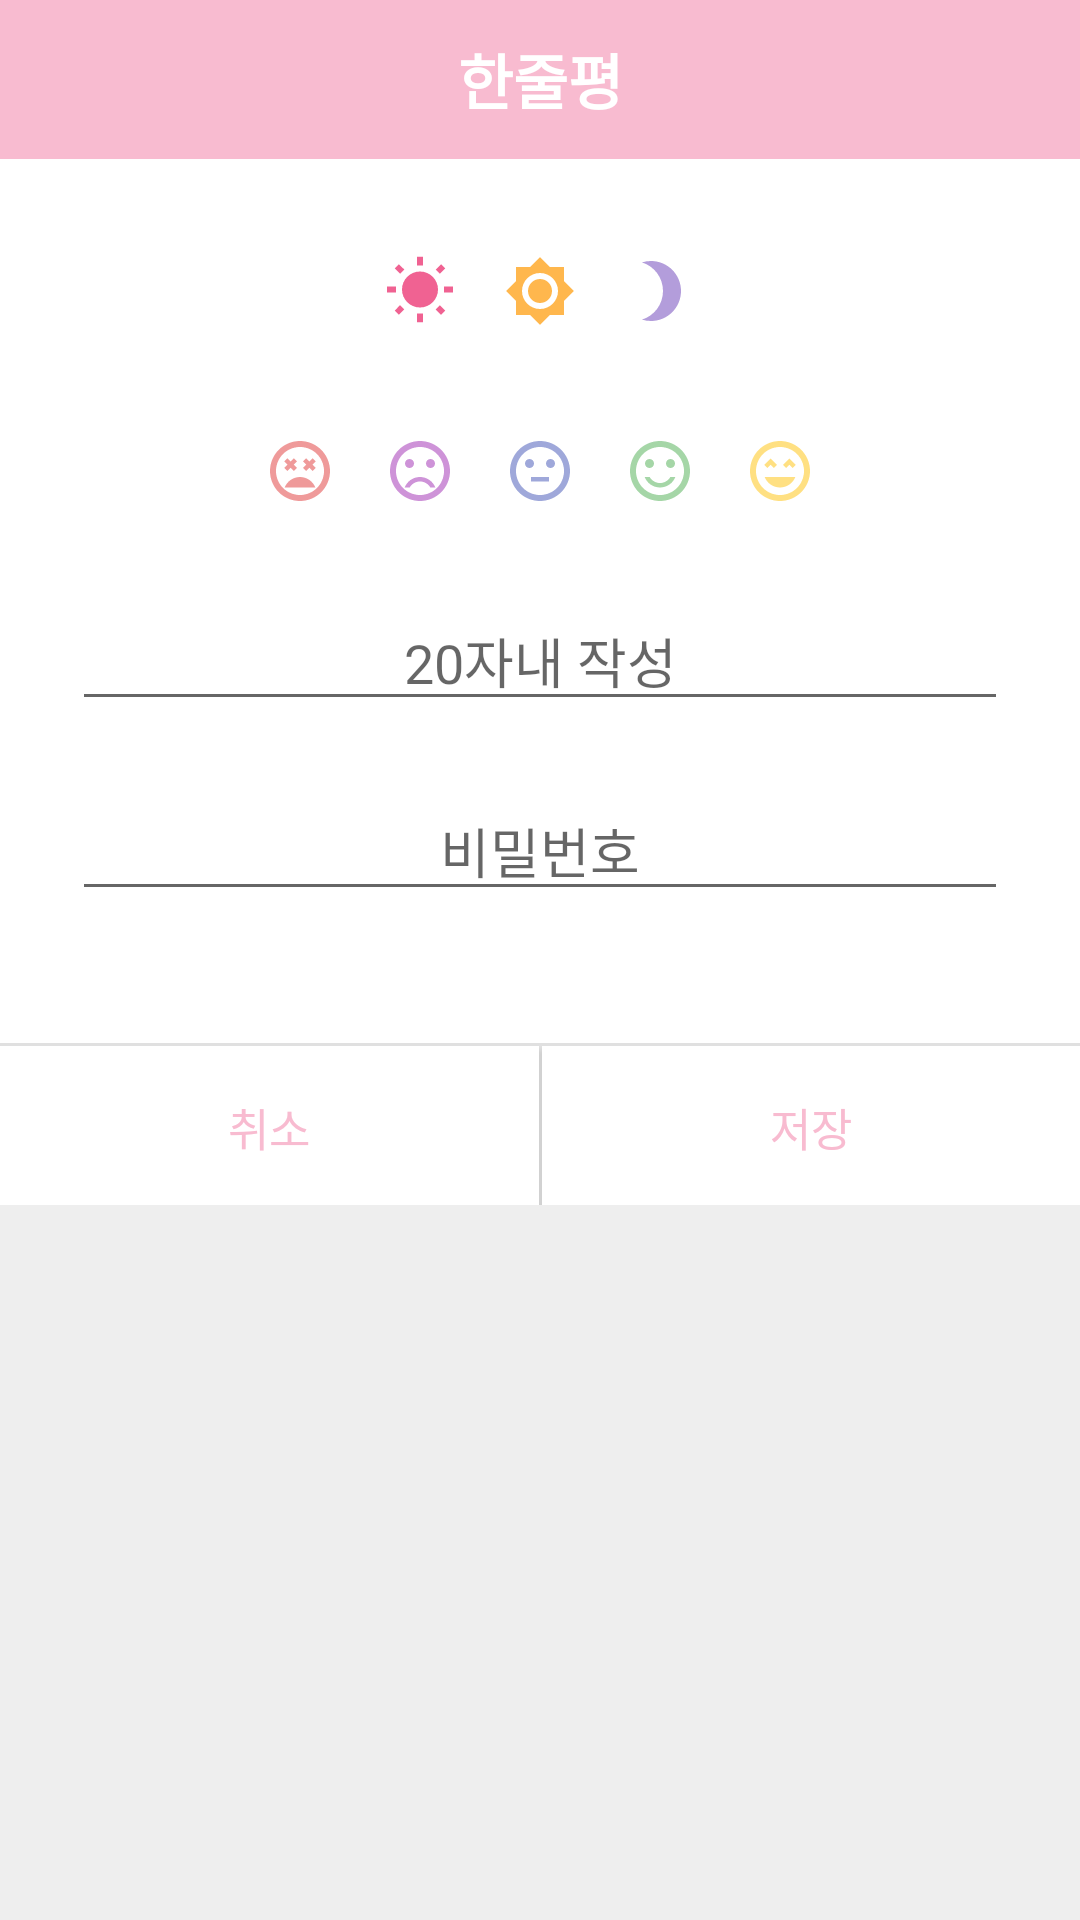

Locate icon controls on the screen. Image size 1080 × 1920, boxes as (x1, y1, x2, y2).
mood: (270, 441, 330, 501), (390, 441, 450, 501), (510, 441, 570, 501), (630, 441, 690, 501), (750, 441, 810, 501)
morning: (387, 256, 453, 323)
night: (642, 261, 681, 321)
sun: (506, 257, 574, 325)
